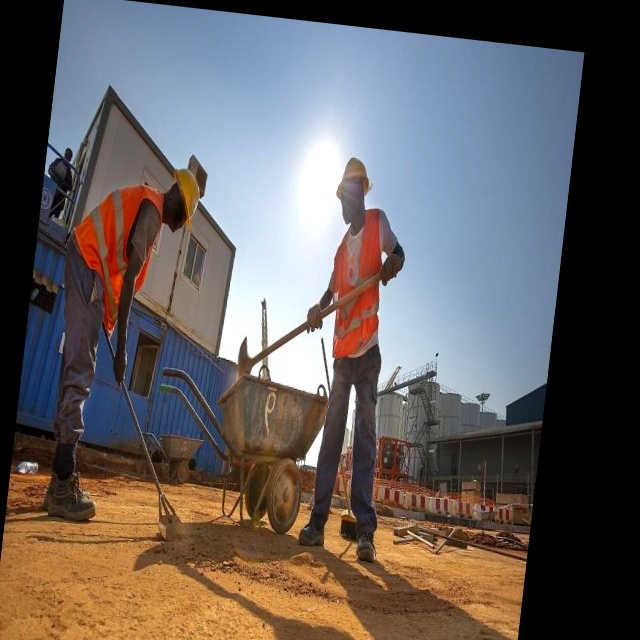Con_Casco: (332, 152, 375, 230), (165, 165, 203, 237)
Con_Chaleco: (64, 173, 168, 340), (327, 207, 392, 346)
